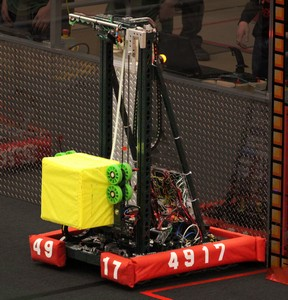cube: (42, 151, 118, 228)
